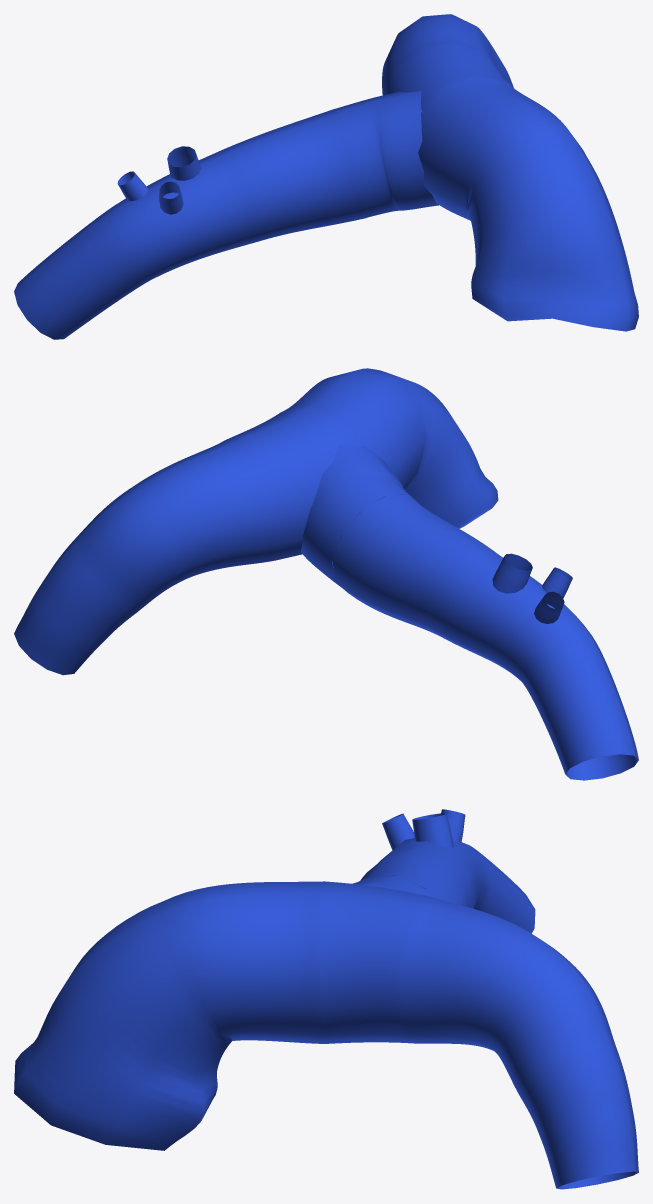
The model's file is a1vessel2.glb.
3 renders of one model, top to bottom at view 1: azimuth 30°, elevation 25°; view 2: azimuth 150°, elevation 25°; view 3: azimuth 270°, elevation 25°, orthographic. The views are drawn at different scales.
Parts seen in each view (by area): view 1: a1.002; view 2: a1.002; view 3: a1.002.
Part boxes in pixels (left/top/right/bottom): a1.002: left=14, top=14, right=638, bottom=339; a1.002: left=14, top=368, right=638, bottom=780; a1.002: left=14, top=809, right=638, bottom=1189.
Size of the model in its own units: 3.76 by 1.48 by 3.19.
